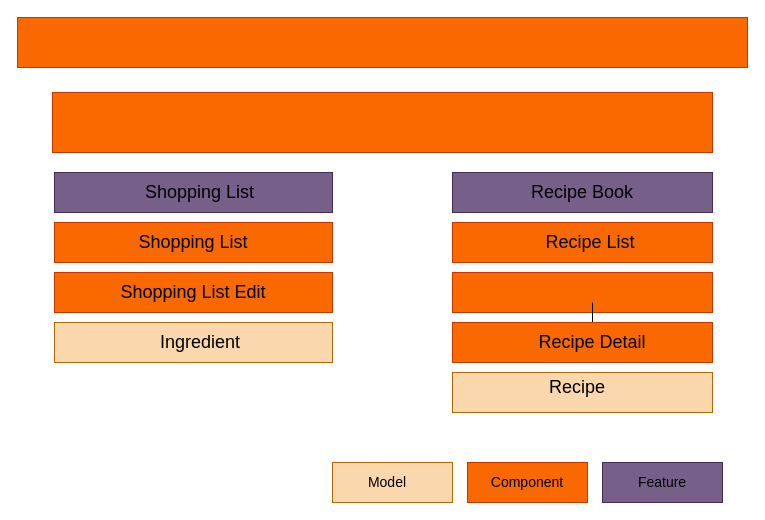
This 765x520 diagram has some shape labels left out. The shapes that lost their labels are listed below. From the top down, each one's centre as x and y in pixels, then its label:
the point at 382,42: Root
the point at 382,122: Header
the point at 582,292: Recipe Item
